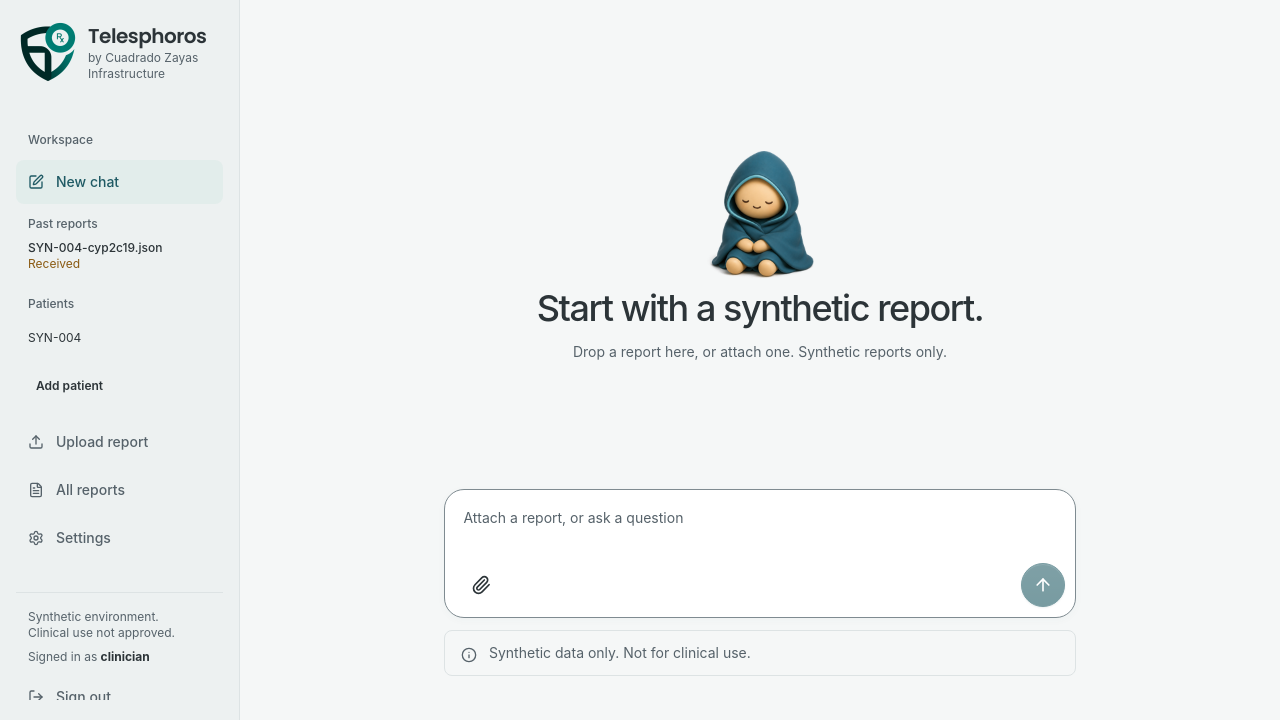
Scenario: the chat-first home in every build (specs/024) › shows a typed question as a note, never an answer, and makes no network request (CH-4)
Check: the button named "Attach a report" is shown, box [459,563,503,607]
Type "What does CYP2C19 *2/*2 mean?" into the text box labelled "question" at (762, 528), box [459,500,1065,556]
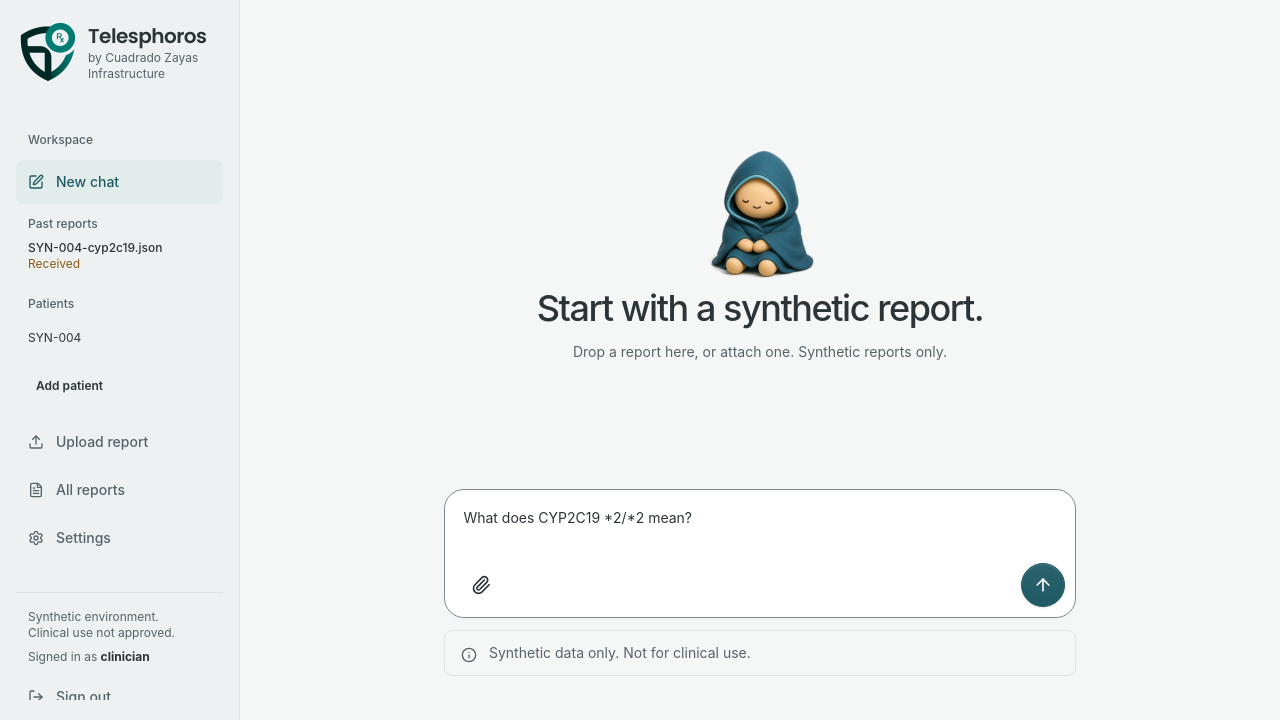
Click the button named "Send" at (1043, 585), box [1021,563,1065,607]
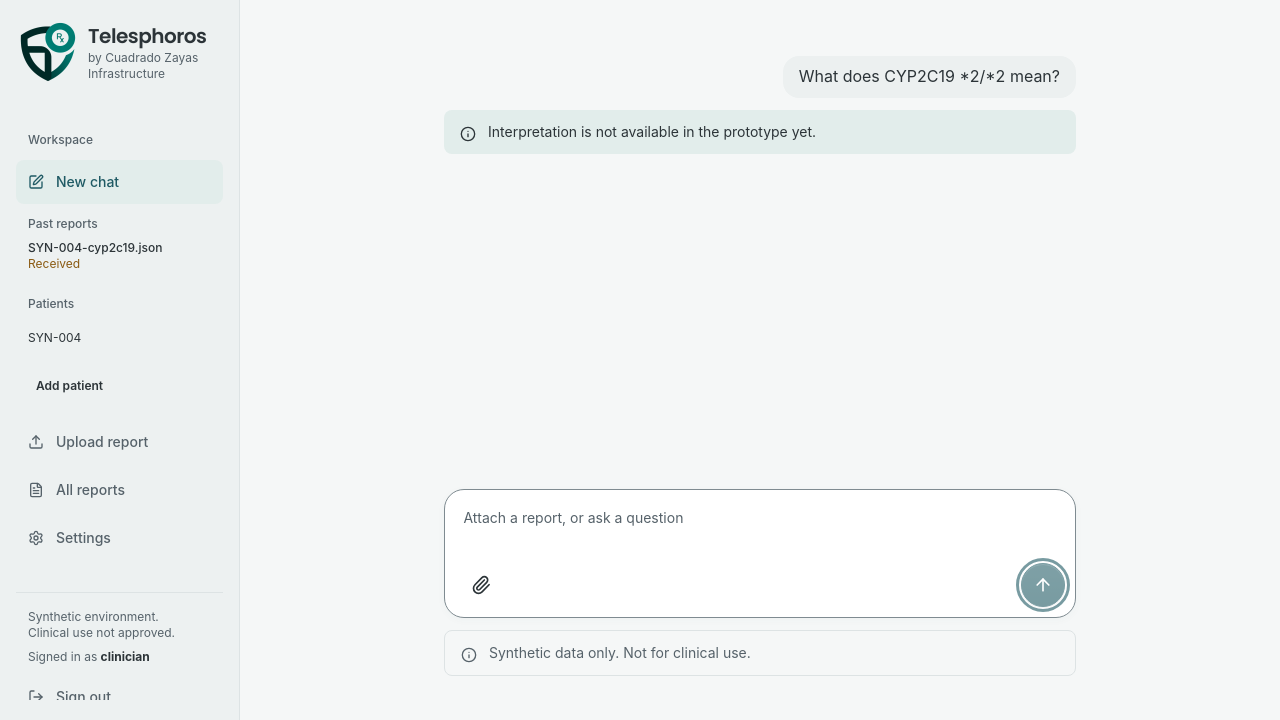
Check: the text "Interpretation is not available in the prototype yet." is shown once, box [488,122,816,142]
Check: the text "What does CYP2C19 *2/*2 mean?" is shown, box [783,56,1076,98]
